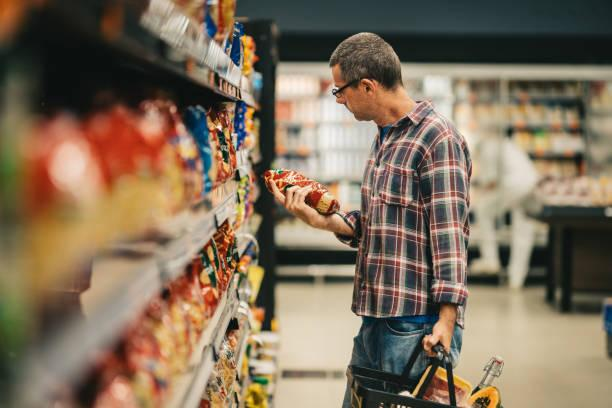Person: (271, 32, 471, 377)
article: (263, 170, 338, 214), (207, 109, 235, 185), (472, 356, 503, 393), (469, 386, 500, 407)
cage: (348, 344, 458, 407)
